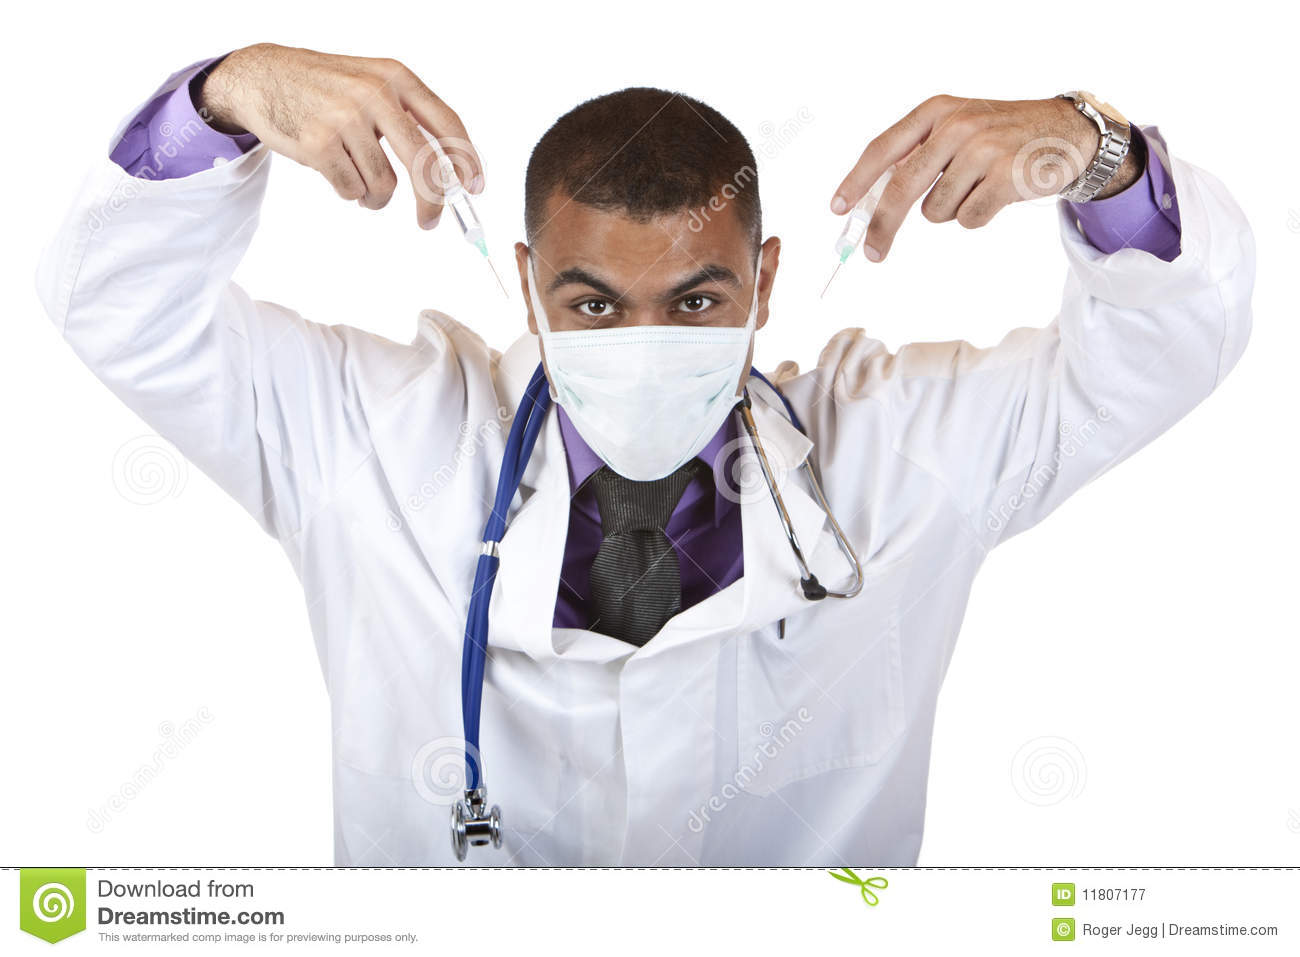mask: (541, 320, 745, 481)
